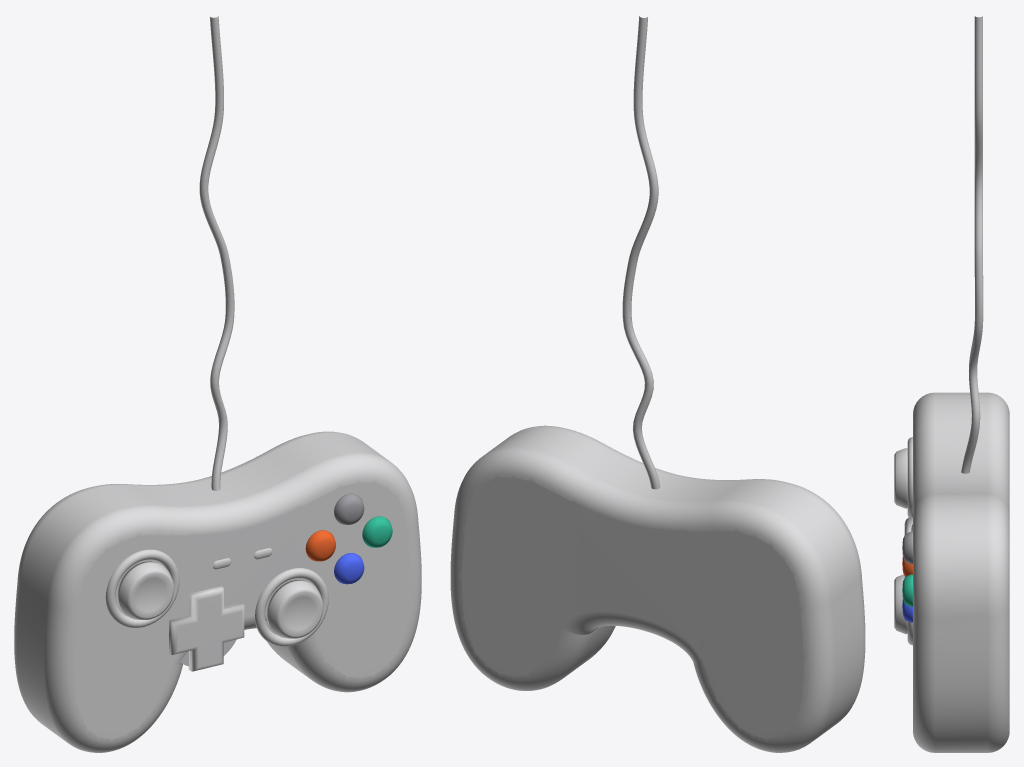
Rendered from gamepad.glb.
3 views of the same model, side by side, from view 1: azimuth 30°, elevation 25°; view 2: azimuth 150°, elevation 25°; view 3: azimuth 270°, elevation 25° (orthographic). The views are drawn at different scales.
Parts seen in each view (by area): view 1: shell, cable, dpad, stick_right_cap, stick_left_cap, stick_right, stick_left, button_b, button_x, button_a, button_y; view 2: shell, cable; view 3: shell, cable, stick_left_cap, stick_right_cap, stick_left, button_b, button_y.
Part boxes in pixels (x1,y1,x2,y2): shell: (14, 431, 421, 752); cable: (199, 16, 234, 490); dpad: (169, 586, 244, 671); stick_right_cap: (266, 580, 323, 638); stick_left_cap: (117, 561, 174, 619); stick_right: (255, 568, 328, 646); stick_left: (105, 549, 179, 627); button_b: (362, 516, 392, 547); button_x: (305, 530, 335, 561); button_a: (334, 553, 364, 584); button_y: (334, 493, 364, 524); shell: (450, 425, 865, 752); cable: (622, 16, 660, 489); shell: (913, 392, 1009, 752); cable: (961, 16, 983, 473); stick_left_cap: (894, 448, 907, 508); stick_right_cap: (894, 574, 907, 634); stick_left: (907, 437, 912, 517); button_b: (902, 574, 912, 606); button_y: (902, 531, 912, 564).
Size of the model in its own units: 7.29 by 12.74 by 1.98.
